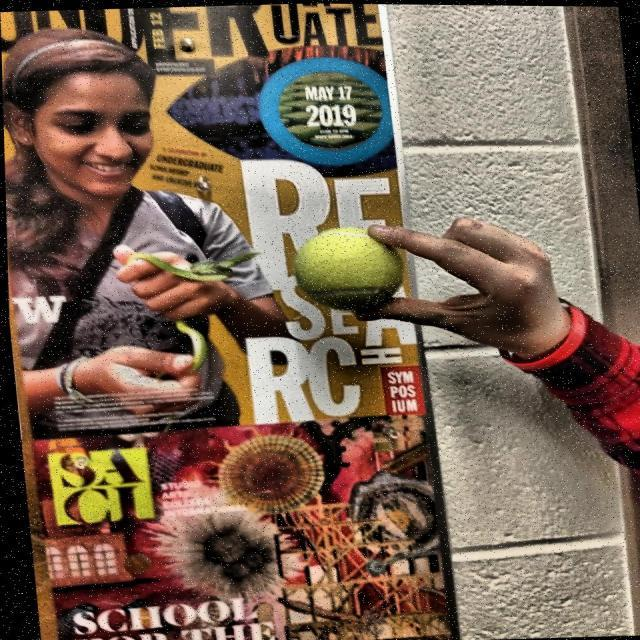tennis-ball: (280, 220, 412, 314)
